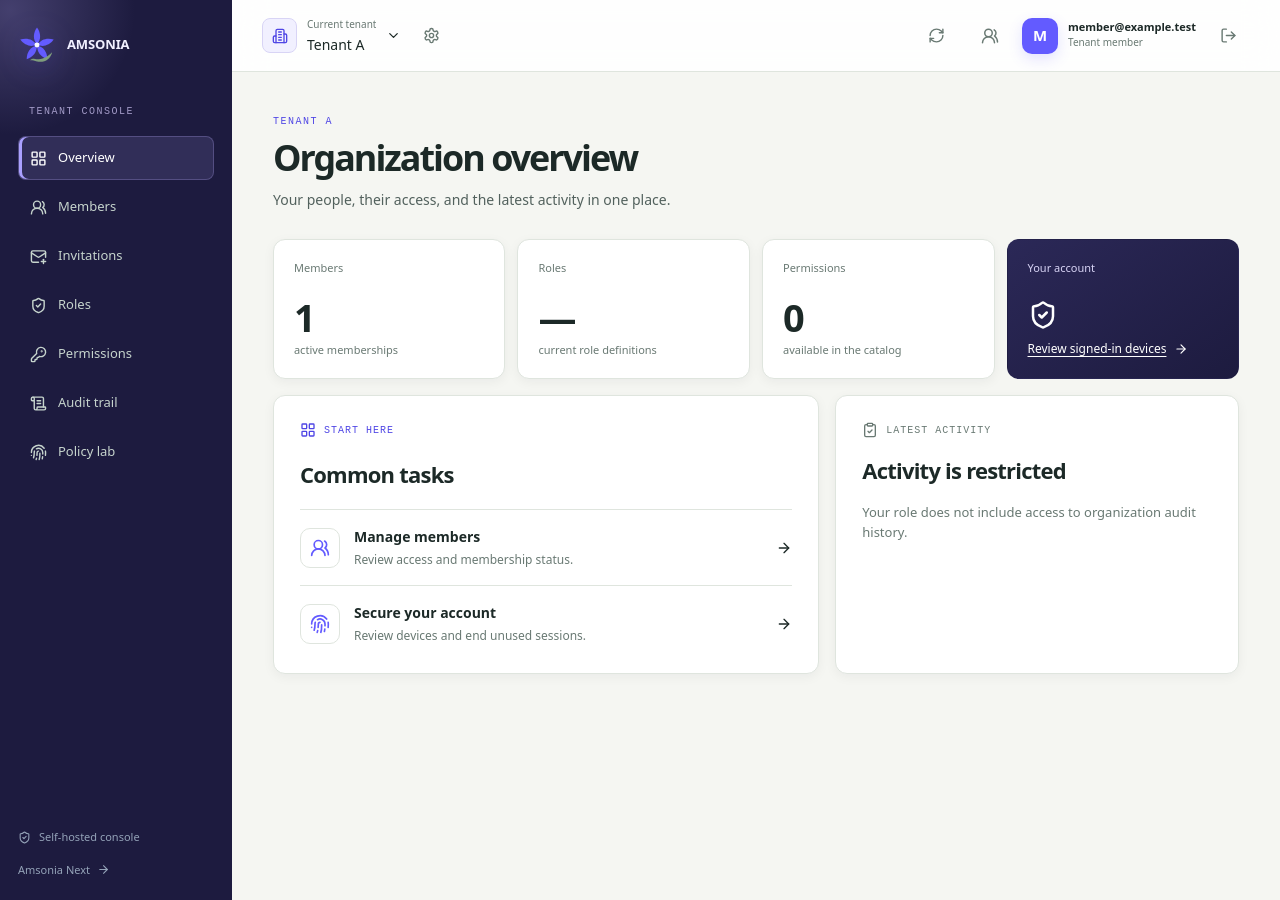
it: rechecks capabilities once after a collection permission changes during refresh
Expected: the heading "Organization overview" is shown, [273, 137, 670, 178]
Click the button "Members": (116, 207) [18, 185, 214, 229]
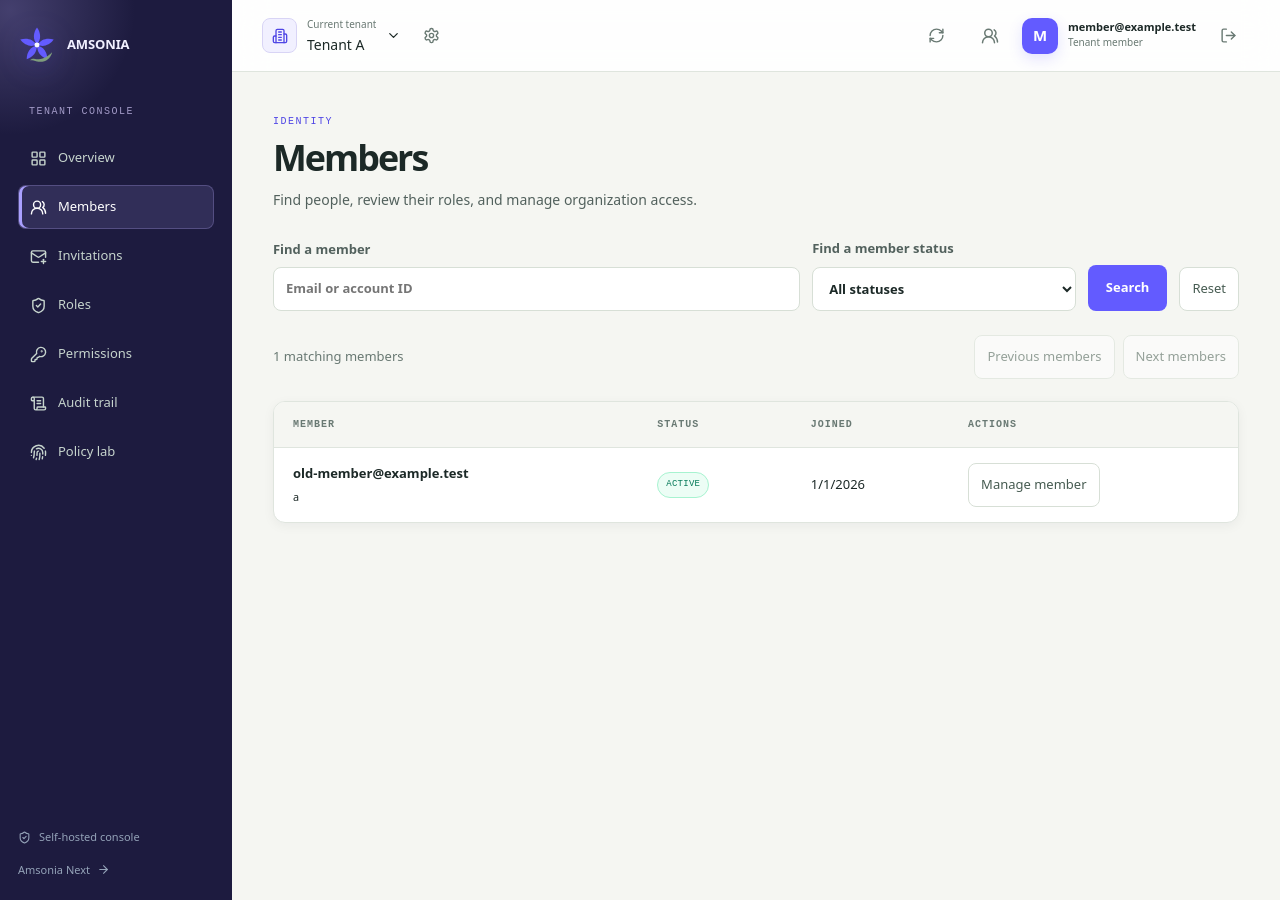
Now the text "old-member@example.test" is shown, box [293, 464, 469, 482]
Click the button named "Refresh workspace": (936, 36) [914, 14, 958, 58]
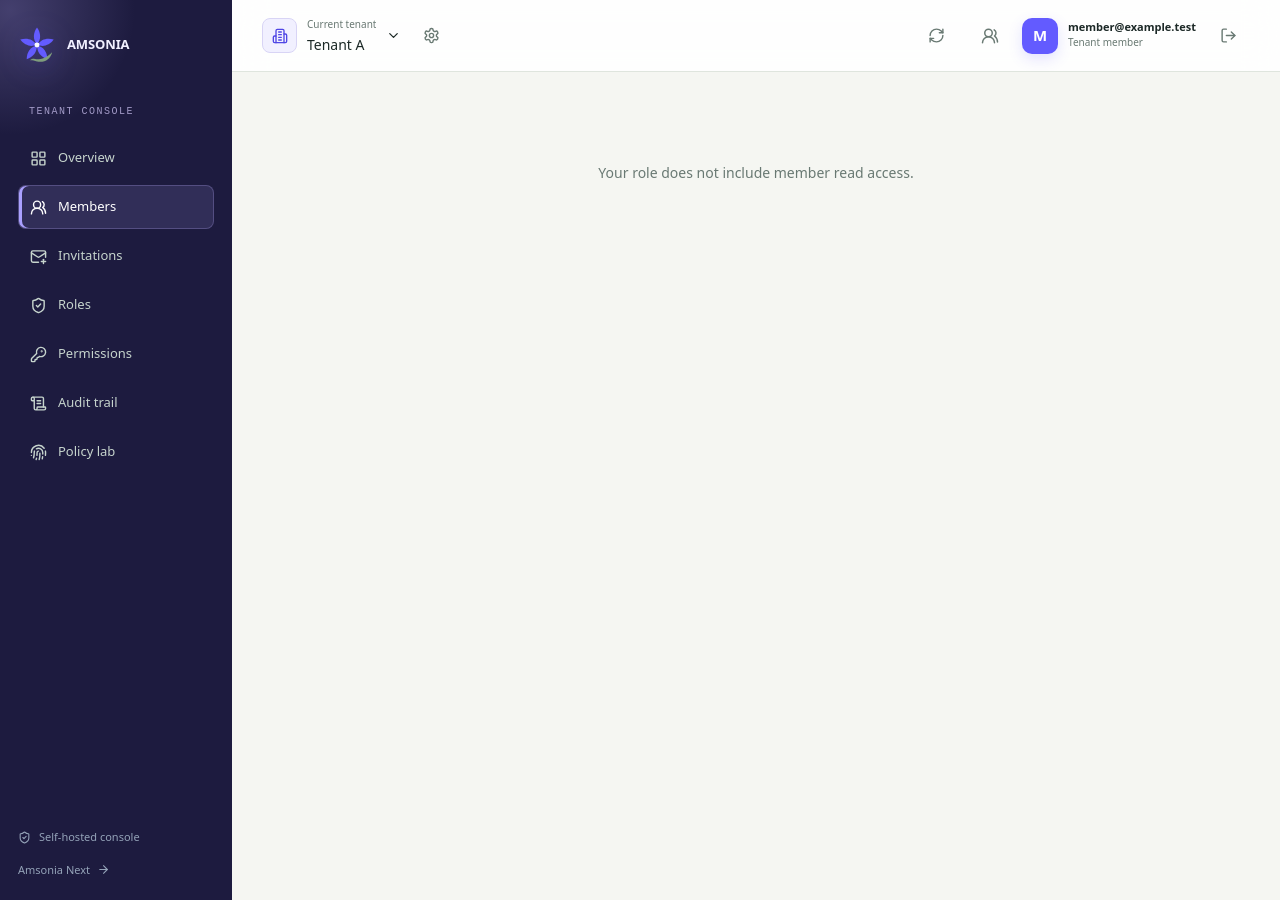
Now the text "Your role does not include member read access." is shown, box [598, 163, 914, 182]
Now the text "old-member@example.test" is gone
